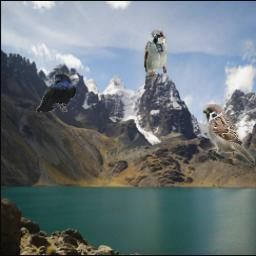Crow: (36, 72, 76, 112)
Sparrow: (202, 104, 255, 166), (143, 30, 166, 90)
